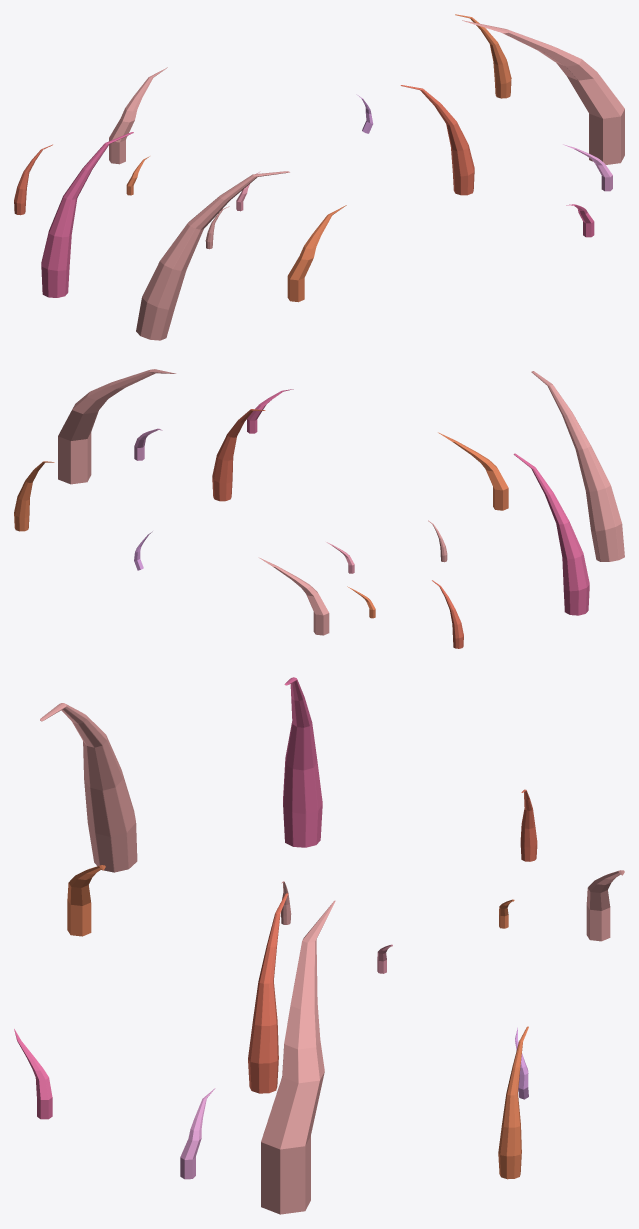
The model's file is tree.gltf.
3 renders of one model, top to bottom at view 1: azimuth 30°, elevation 25°; view 2: azimuth 150°, elevation 25°; view 3: azimuth 270°, elevation 25°, orthographic. The views are drawn at different scales.
Parts seen in each view (by area): view 1: Circle.002, Circle.003, Circle.006, Circle.018, Circle.009, Circle.014, Circle.016, Circle.011, Circle.004; view 2: Circle.002, Circle.003, Circle.006, Circle.018, Circle.014, Circle.009, Circle.016, Circle.011, Circle.001; view 3: Circle.003, Circle.002, Circle.006, Circle.018, Circle.016, Circle.009, Circle.014, Circle.001, Circle.004, Circle.011.
Boxes of the visible parts, x1,y1,x2,y2 form: Circle.002: (136,171,289,340); Circle.003: (462,20,624,164); Circle.006: (41,132,133,297); Circle.018: (400,85,474,195); Circle.009: (287,205,346,302); Circle.014: (109,67,167,164); Circle.016: (455,14,511,98); Circle.011: (14,144,52,215); Circle.004: (563,144,612,191); Circle.002: (531,371,624,561); Circle.003: (58,369,176,484); Circle.006: (513,453,589,615); Circle.018: (212,409,265,501); Circle.014: (258,557,329,635); Circle.009: (438,432,508,510); Circle.016: (14,461,54,531); Circle.011: (432,580,463,648); Circle.001: (247,389,293,433); Circle.003: (261,900,335,1214); Circle.002: (40,703,137,872); Circle.006: (283,677,322,847); Circle.018: (248,893,287,1093); Circle.016: (498,1026,528,1179); Circle.009: (67,865,105,936); Circle.014: (586,870,624,941); Circle.001: (14,1029,52,1119); Circle.004: (180,1088,215,1179); Circle.011: (520,789,537,861).
Size of the model in its own units: 111 by 30.28 by 73.52.
